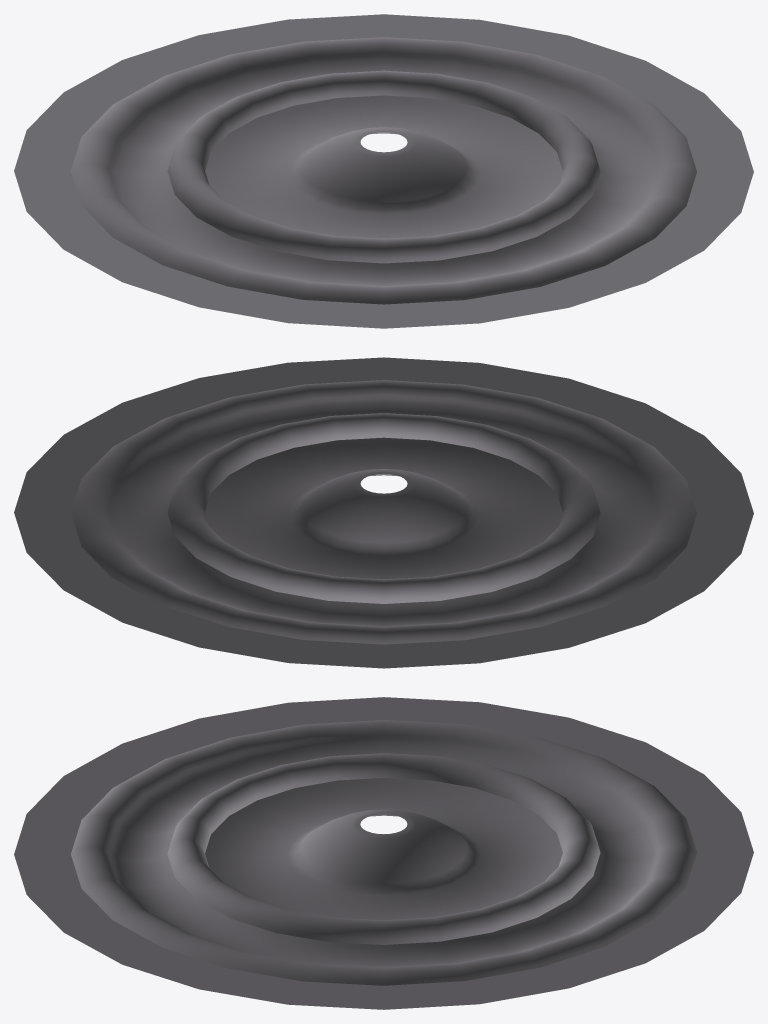
The model's file is sususus.glb.
3 views of the same model, one above another, from view 1: azimuth 30°, elevation 25°; view 2: azimuth 150°, elevation 25°; view 3: azimuth 270°, elevation 25° (orthographic).
Visible parts, largest first — view 1: Component_1; view 2: Component_1; view 3: Component_1.
Part boxes in pixels (left/top/right/bottom): Component_1: left=14, top=14, right=753, bottom=328; Component_1: left=14, top=357, right=753, bottom=668; Component_1: left=14, top=697, right=753, bottom=1009.
Size of the model in its own units: 133 by 7.31 by 133.
1 material, 1 textured.
